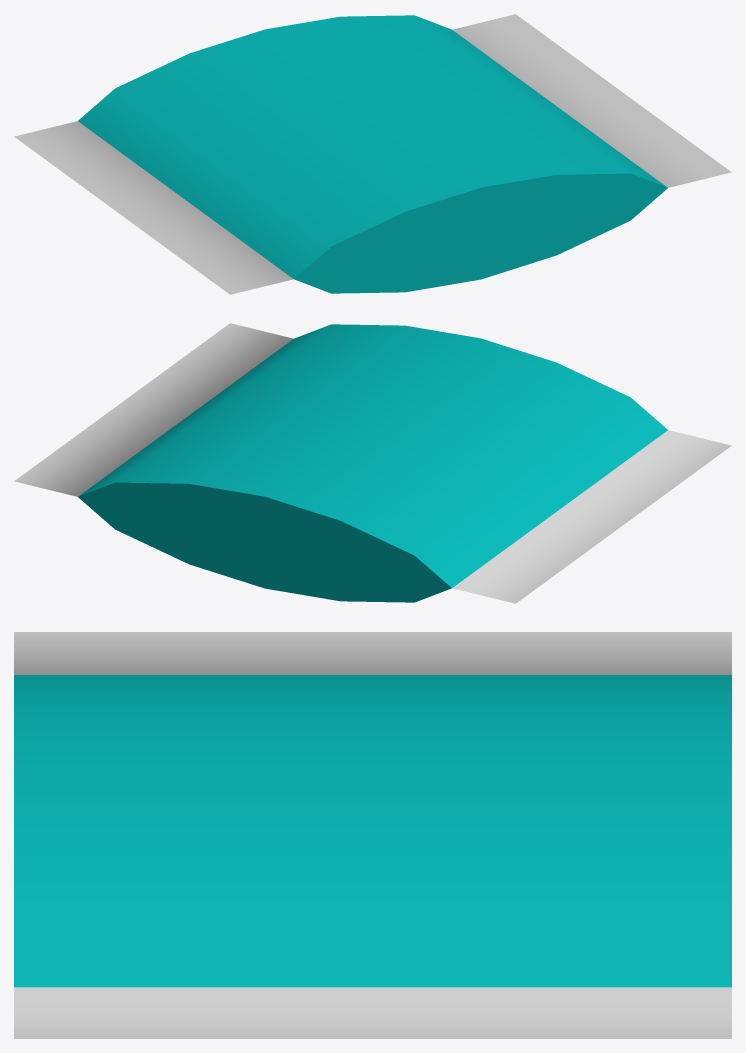
File: Chip_bag.fbx
3 views of the same model, one above another, from view 1: azimuth 30°, elevation 25°; view 2: azimuth 150°, elevation 25°; view 3: azimuth 270°, elevation 25° (orthographic). The views are drawn at different scales.
Visible parts, largest first — view 1: pCube1; view 2: pCube1; view 3: pCube1.
Part boxes in pixels (x1=…): pCube1: x1=14, y1=14, x2=731, y2=294; pCube1: x1=14, y1=323, x2=731, y2=603; pCube1: x1=14, y1=632, x2=731, y2=1038.
Size of the model in its own units: 16 by 2.8 by 11.94.
